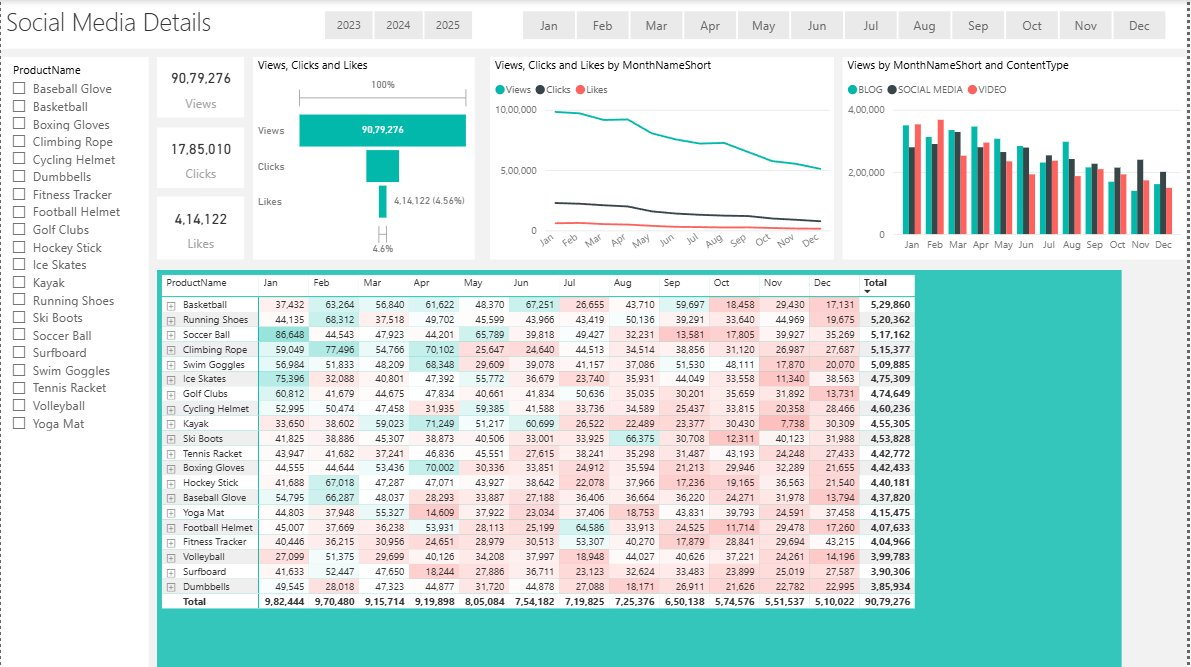

Layout of this report page (visuals, bound fields, positions):
{"tool":"powerbi","page":{"name":"Social Media Details","canvas":[1280,720],"ordinal":2},"visuals":[{"type":"textbox","box":[0,0,1280,52.6],"z":0},{"type":"slicer","fields":{"Values":["dim_products.ProductName"]},"box":[0,61.6,159.5,658.5],"z":1000},{"type":"lineChart","fields":{"Y":["_Calculations.Views","_Calculations.Clicks","_Calculations.Likes"],"Category":["Calendar.MonthNameShort"]},"box":[528.5,61.9,371.6,218.8],"z":2000},{"type":"funnel","fields":{"Y":["_Calculations.Views","_Calculations.Clicks","_Calculations.Likes"]},"box":[272.5,61.9,239.5,218.8],"z":3000},{"type":"card","fields":{"Values":["_Calculations.Views"]},"box":[168.3,61.9,93.9,65],"z":4000},{"type":"card","fields":{"Values":["_Calculations.Clicks"]},"box":[168.3,137.3,93.9,65],"z":5000},{"type":"card","fields":{"Values":["_Calculations.Likes"]},"box":[168.3,212.6,93.9,68.1],"z":6000},{"type":"slicer","fields":{"Values":["Calendar.MonthNameShort"]},"box":[536.8,4.1,743.2,44.4],"z":7000},{"type":"slicer","fields":{"Values":["Calendar.Year"]},"box":[324.1,4.1,208.5,44.4],"z":8000},{"type":"pivotTable","fields":{"Rows":["dim_products.ProductName","fact_engagement.ContentType"],"Values":["_Calculations.Views"],"Columns":["Calendar.MonthNameShort"]},"box":[168.4,291.5,1041.2,429.1],"z":9000},{"type":"clusteredColumnChart","fields":{"Category":["Calendar.MonthNameShort"],"Series":["fact_engagement.ContentType"],"Y":["_Calculations.Views"]},"box":[908.4,61.9,370.6,218.8],"z":10000}]}

Visuals, with their boxes in screenshot pixels (x1, y1, x2, y2), scaled from the page's 1280x720 canvas onto the 1191x667 screenshot:
textbox: <box>0,0,1190,49</box>
slicer - dim_products.ProductName: <box>0,57,148,666</box>
lineChart - _Calculations.Views x _Calculations.Clicks: <box>492,57,838,260</box>
funnel - _Calculations.Views x _Calculations.Clicks: <box>254,57,476,260</box>
card - _Calculations.Views: <box>157,57,244,118</box>
card - _Calculations.Clicks: <box>157,127,244,187</box>
card - _Calculations.Likes: <box>157,197,244,260</box>
slicer - Calendar.MonthNameShort: <box>499,4,1190,45</box>
slicer - Calendar.Year: <box>302,4,496,45</box>
pivotTable - dim_products.ProductName x fact_engagement.ContentType: <box>157,270,1125,666</box>
clusteredColumnChart - Calendar.MonthNameShort x fact_engagement.ContentType: <box>845,57,1190,260</box>
